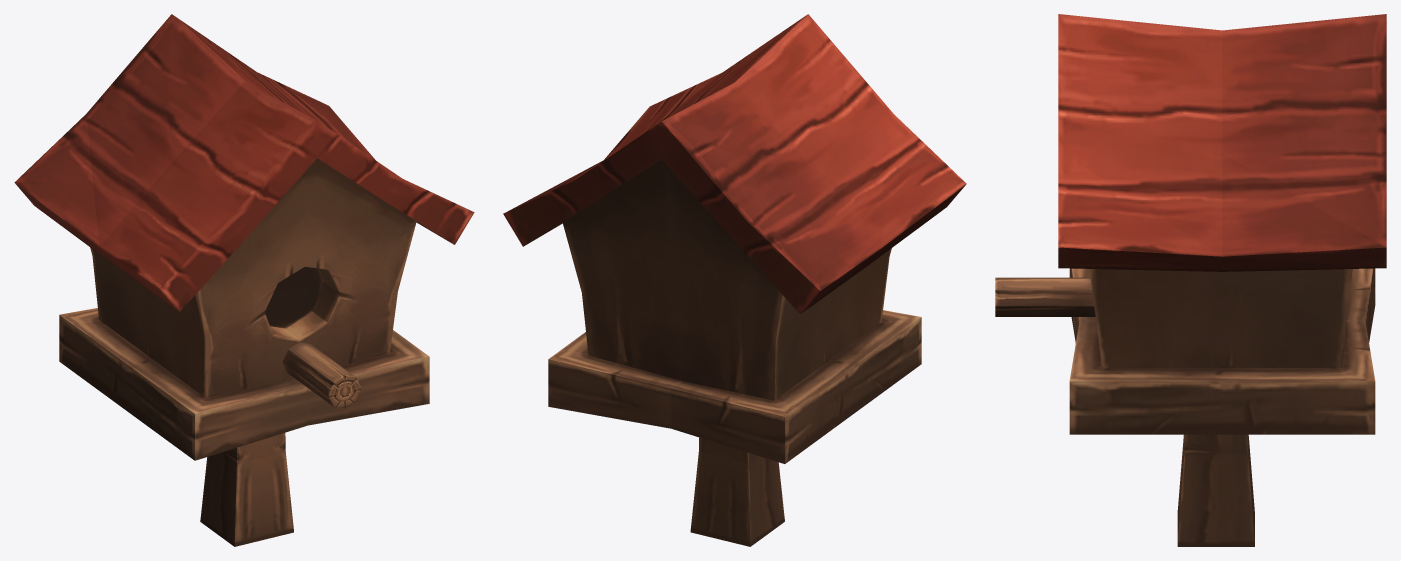
The model's file is 85_birdhouse.FBX.
3 renders of one model, left to right at view 1: azimuth 30°, elevation 25°; view 2: azimuth 150°, elevation 25°; view 3: azimuth 270°, elevation 25°, orthographic. The views are drawn at different scales.
Parts seen in each view (by area): view 1: Box017; view 2: Box017; view 3: Box017.
Boxes of the visible parts, box(x1,y1,x2,y2) form: Box017: box(14, 14, 474, 546); Box017: box(503, 14, 966, 546); Box017: box(995, 14, 1386, 546).
Bounding box in the file's own units: 41.72 × 58 × 39.82.
